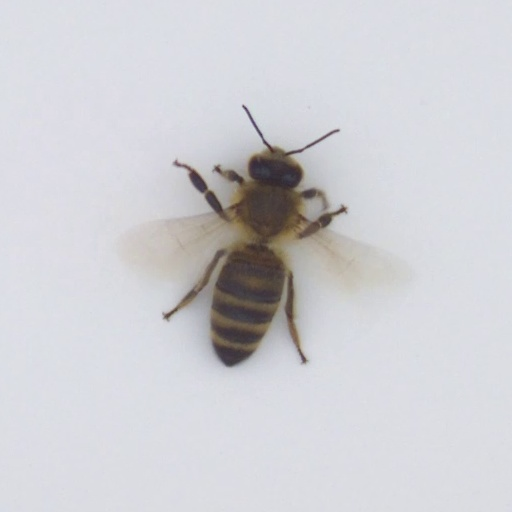Bee: (191, 139, 310, 382)
Thorax: (234, 181, 300, 241)
